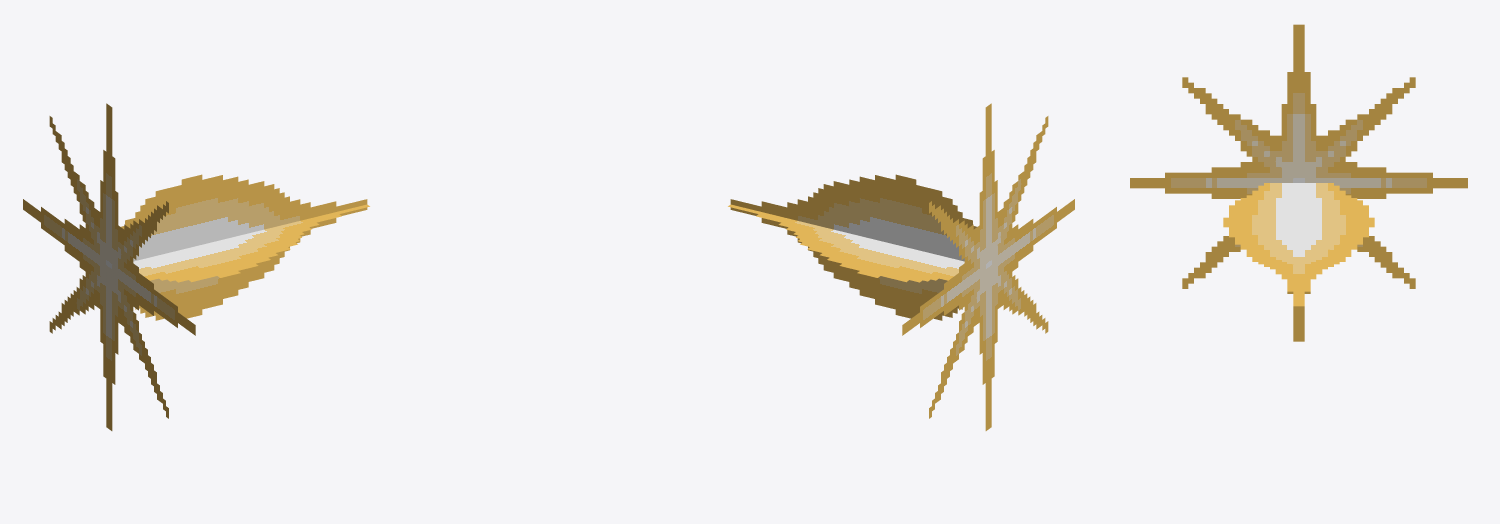
The model's file is muzzle-flash.gltf.
3 renders of one model, left to right at view 1: azimuth 30°, elevation 25°; view 2: azimuth 150°, elevation 25°; view 3: azimuth 270°, elevation 25°, orthographic. The views are drawn at different scales.
Parts seen in each view (by area): view 1: plane (×2); view 2: plane (×2); view 3: plane (×2).
Boxes of the visible parts, box(x1,y1,x2,y2) form: plane (×2): box(23, 103, 369, 430); plane (×2): box(728, 103, 1074, 430); plane (×2): box(1130, 24, 1467, 341).
Size of the model in its own units: 1 by 1 by 1.
